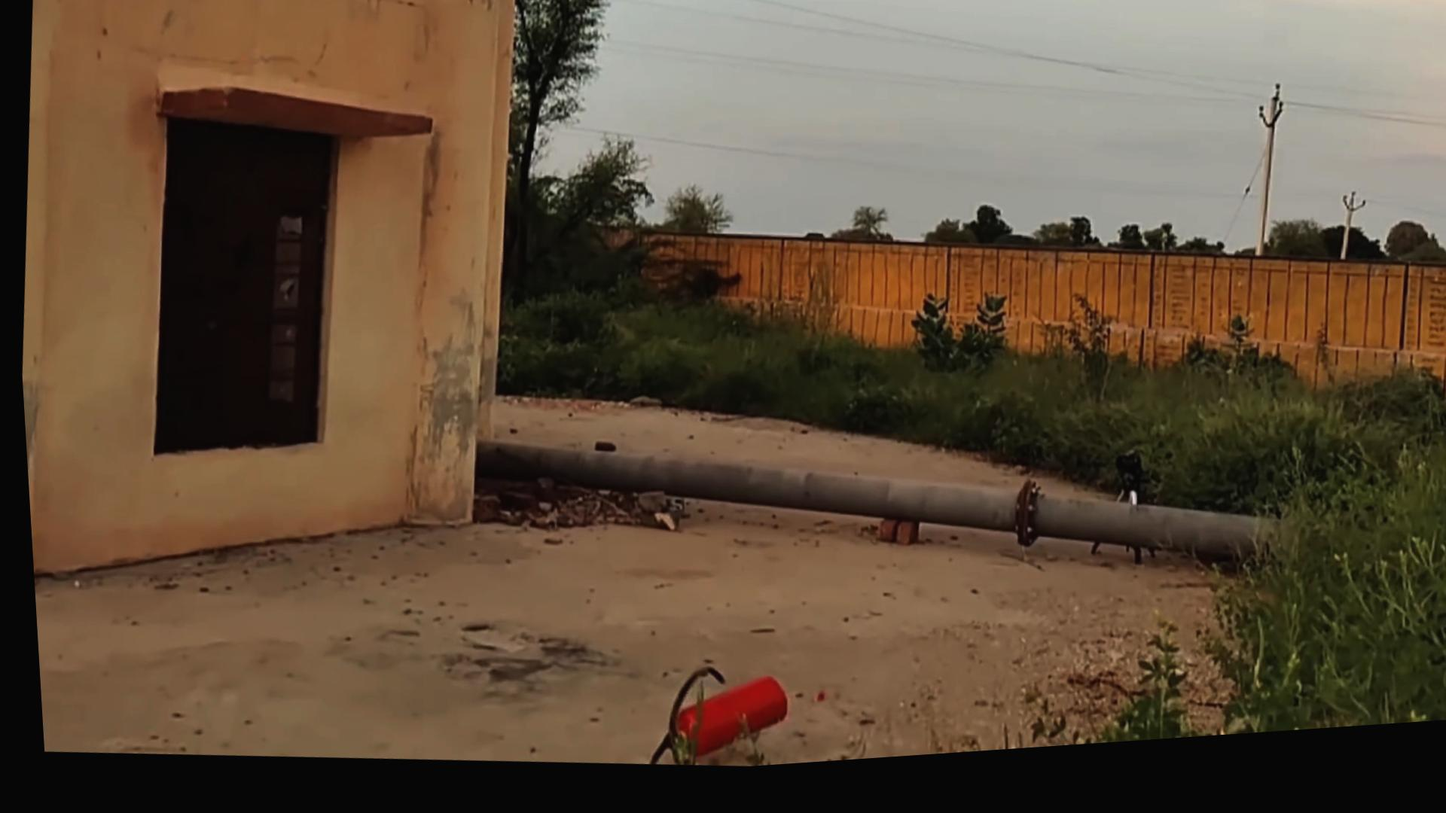FireExtinguisher: (621, 660, 804, 782)
